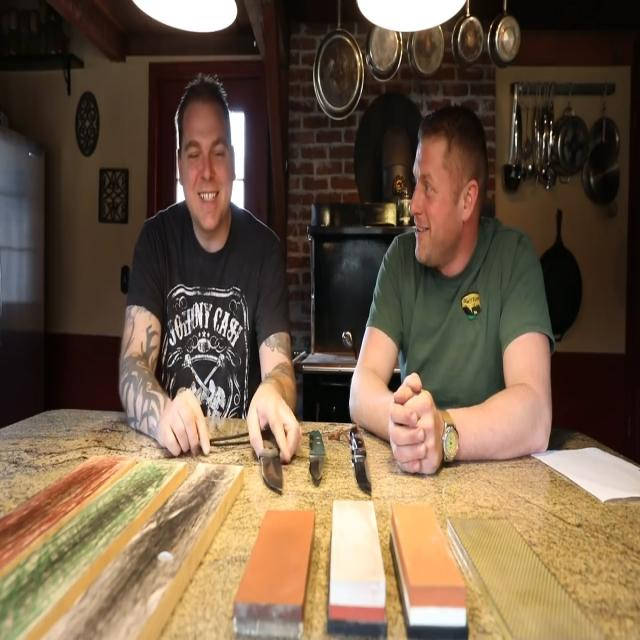knife: (346, 418, 380, 502), (258, 429, 286, 499), (308, 428, 331, 491)
